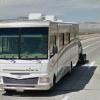Bus: (2, 16, 82, 95)
